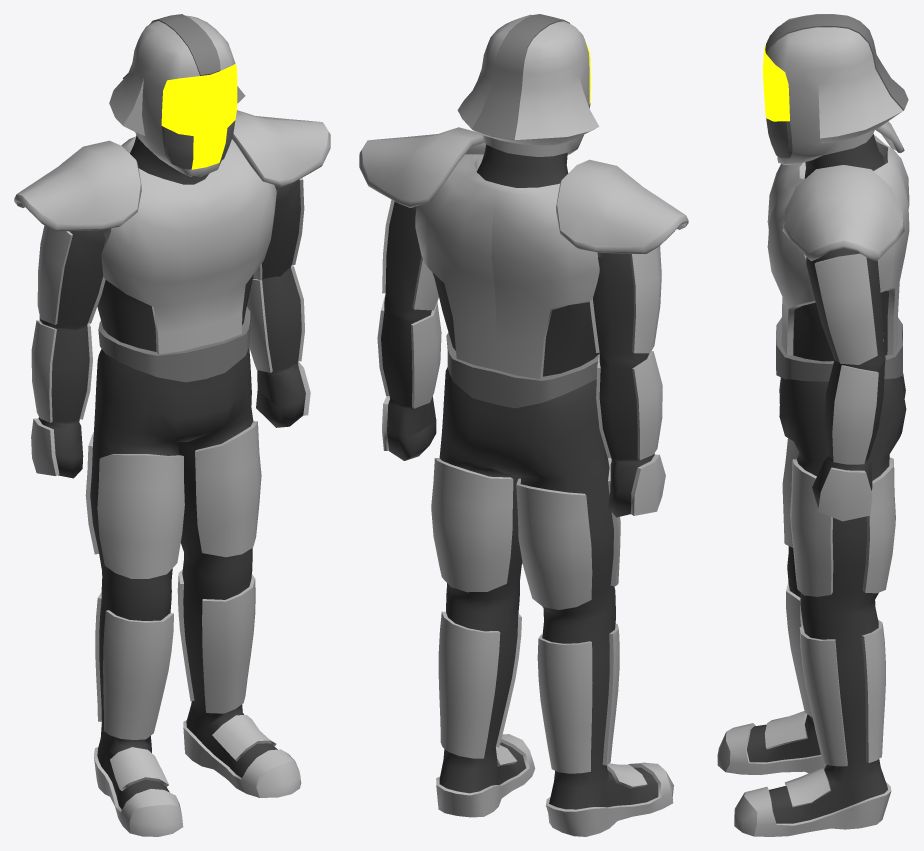
Rendered from Guard_Blockout_3.fbx.
3 views of the same model, side by side, from view 1: azimuth 30°, elevation 25°; view 2: azimuth 150°, elevation 25°; view 3: azimuth 270°, elevation 25° (orthographic). The views are drawn at different scales.
Parts seen in each view (by area): view 1: Guard_Blockout_3; view 2: Guard_Blockout_3; view 3: Guard_Blockout_3.
Boxes of the visible parts, x1,y1,x2,y2 form: Guard_Blockout_3: (14, 14, 330, 836); Guard_Blockout_3: (359, 14, 688, 836); Guard_Blockout_3: (717, 14, 909, 836).
Bounding box in the file's own units: 108 × 257 × 57.41.
